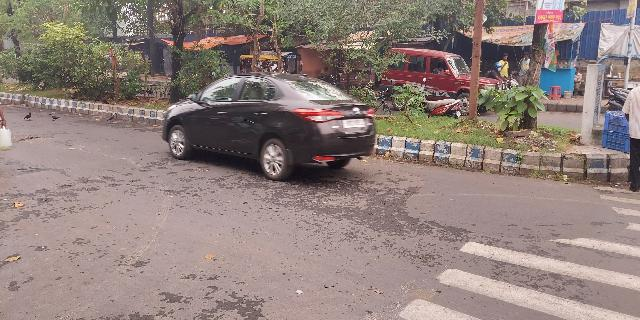Car: (162, 73, 378, 182)
